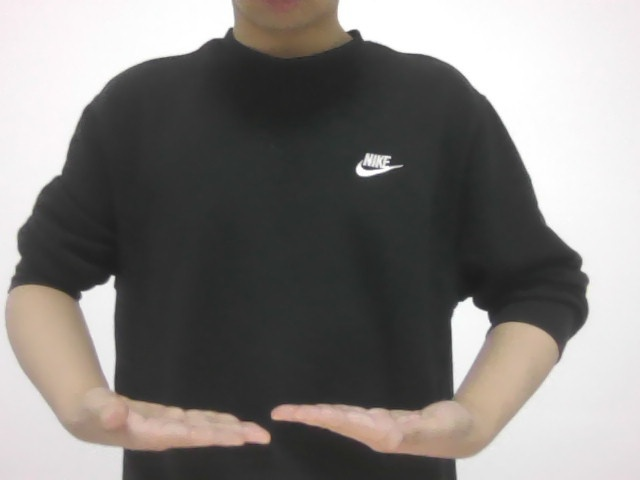today: (89, 361, 472, 468)
